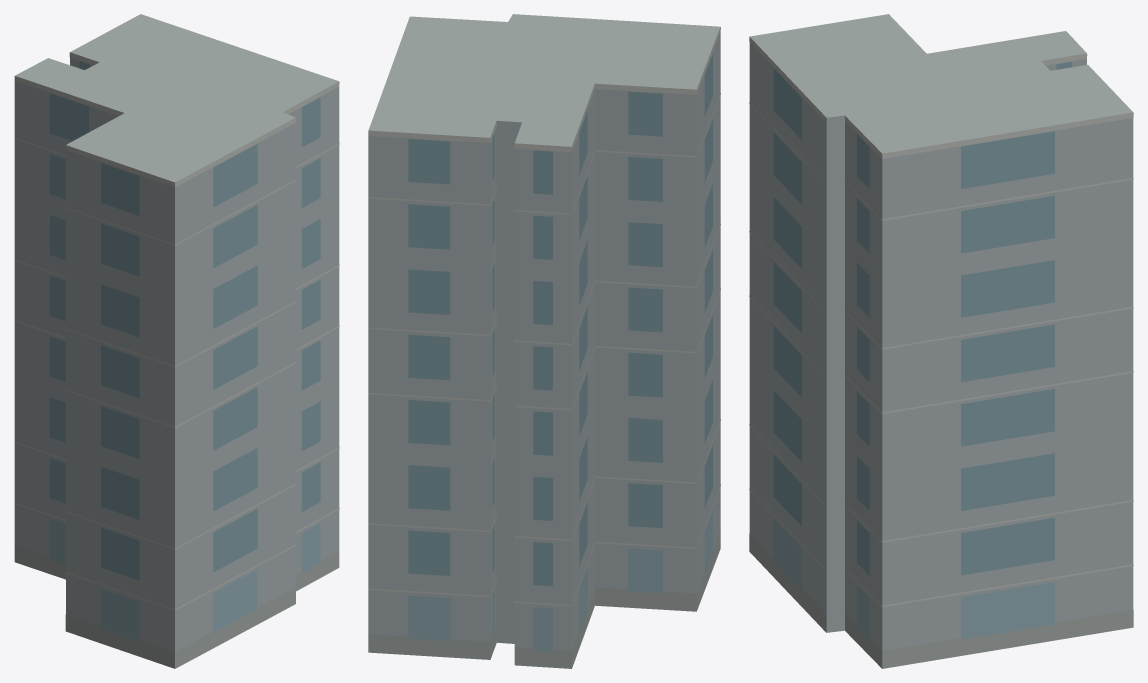
Rendered from survey-upis-33011753.glb.
3 views of the same model, side by side, from view 1: azimuth 30°, elevation 25°; view 2: azimuth 150°, elevation 25°; view 3: azimuth 270°, elevation 25° (orthographic). The views are drawn at different scales.
Parts seen in each view (by area): view 1: survey-upis-33011753.tmp; view 2: survey-upis-33011753.tmp; view 3: survey-upis-33011753.tmp.
Boxes of the visible parts, x1,y1,x2,y2 form: survey-upis-33011753.tmp: (14,14,339,668); survey-upis-33011753.tmp: (368,14,720,668); survey-upis-33011753.tmp: (749,14,1133,668).
Size of the model in its own units: 13.64 by 23.4 by 15.83.
